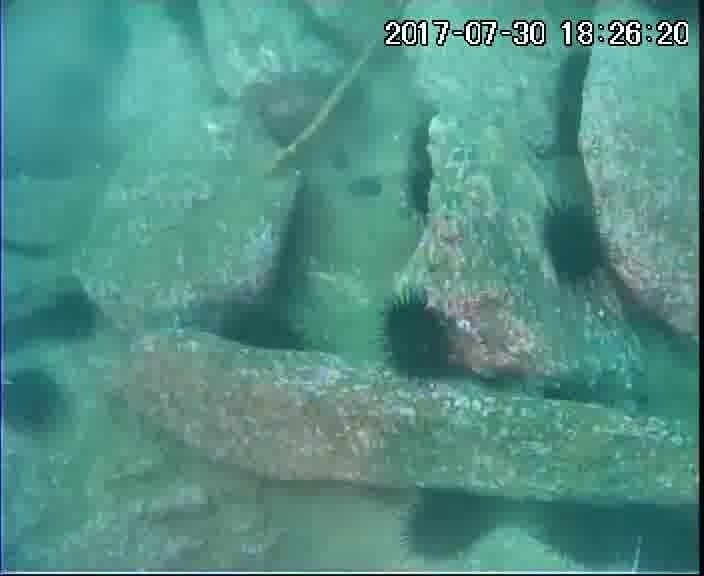echinus: (533, 494, 647, 570), (399, 482, 499, 565), (376, 289, 459, 383), (536, 200, 612, 291), (217, 300, 308, 359), (1, 363, 67, 438), (34, 283, 105, 349), (399, 158, 441, 225)
